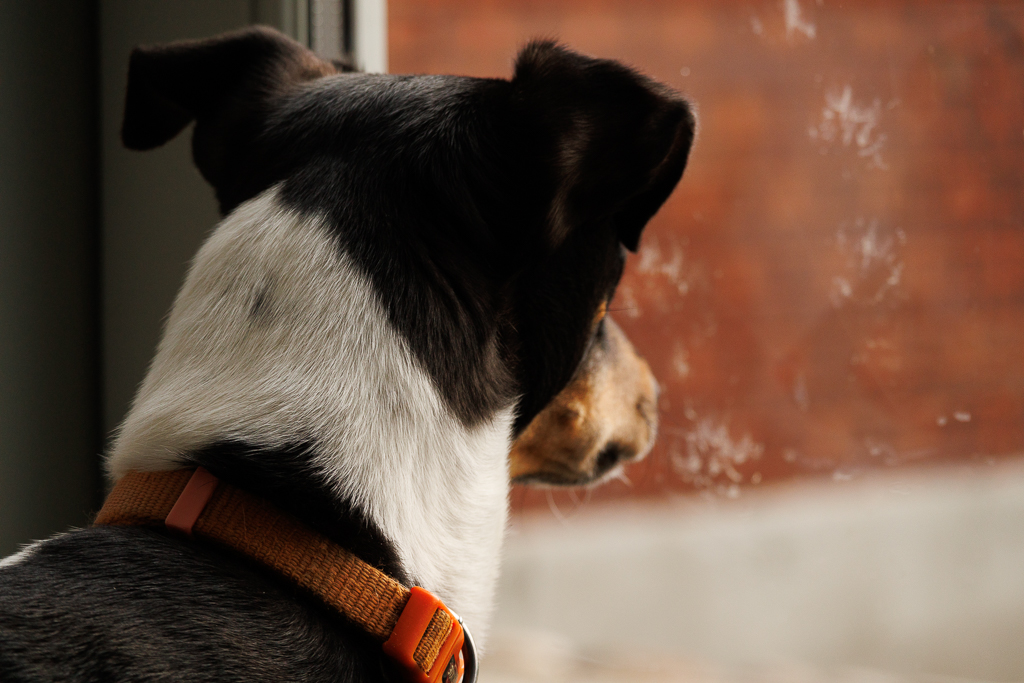Dog: (0, 20, 711, 683)
